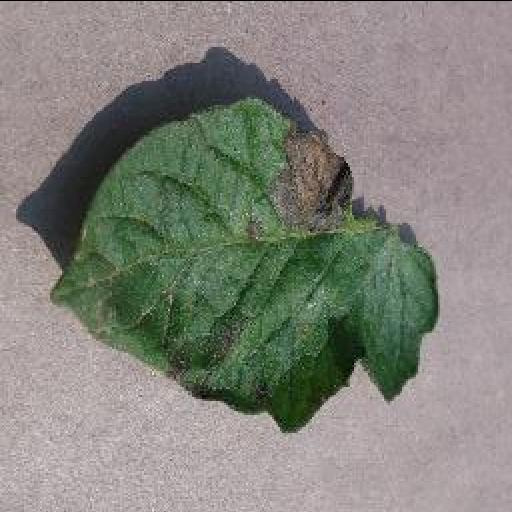disease_tomato: (45, 96, 439, 434)
